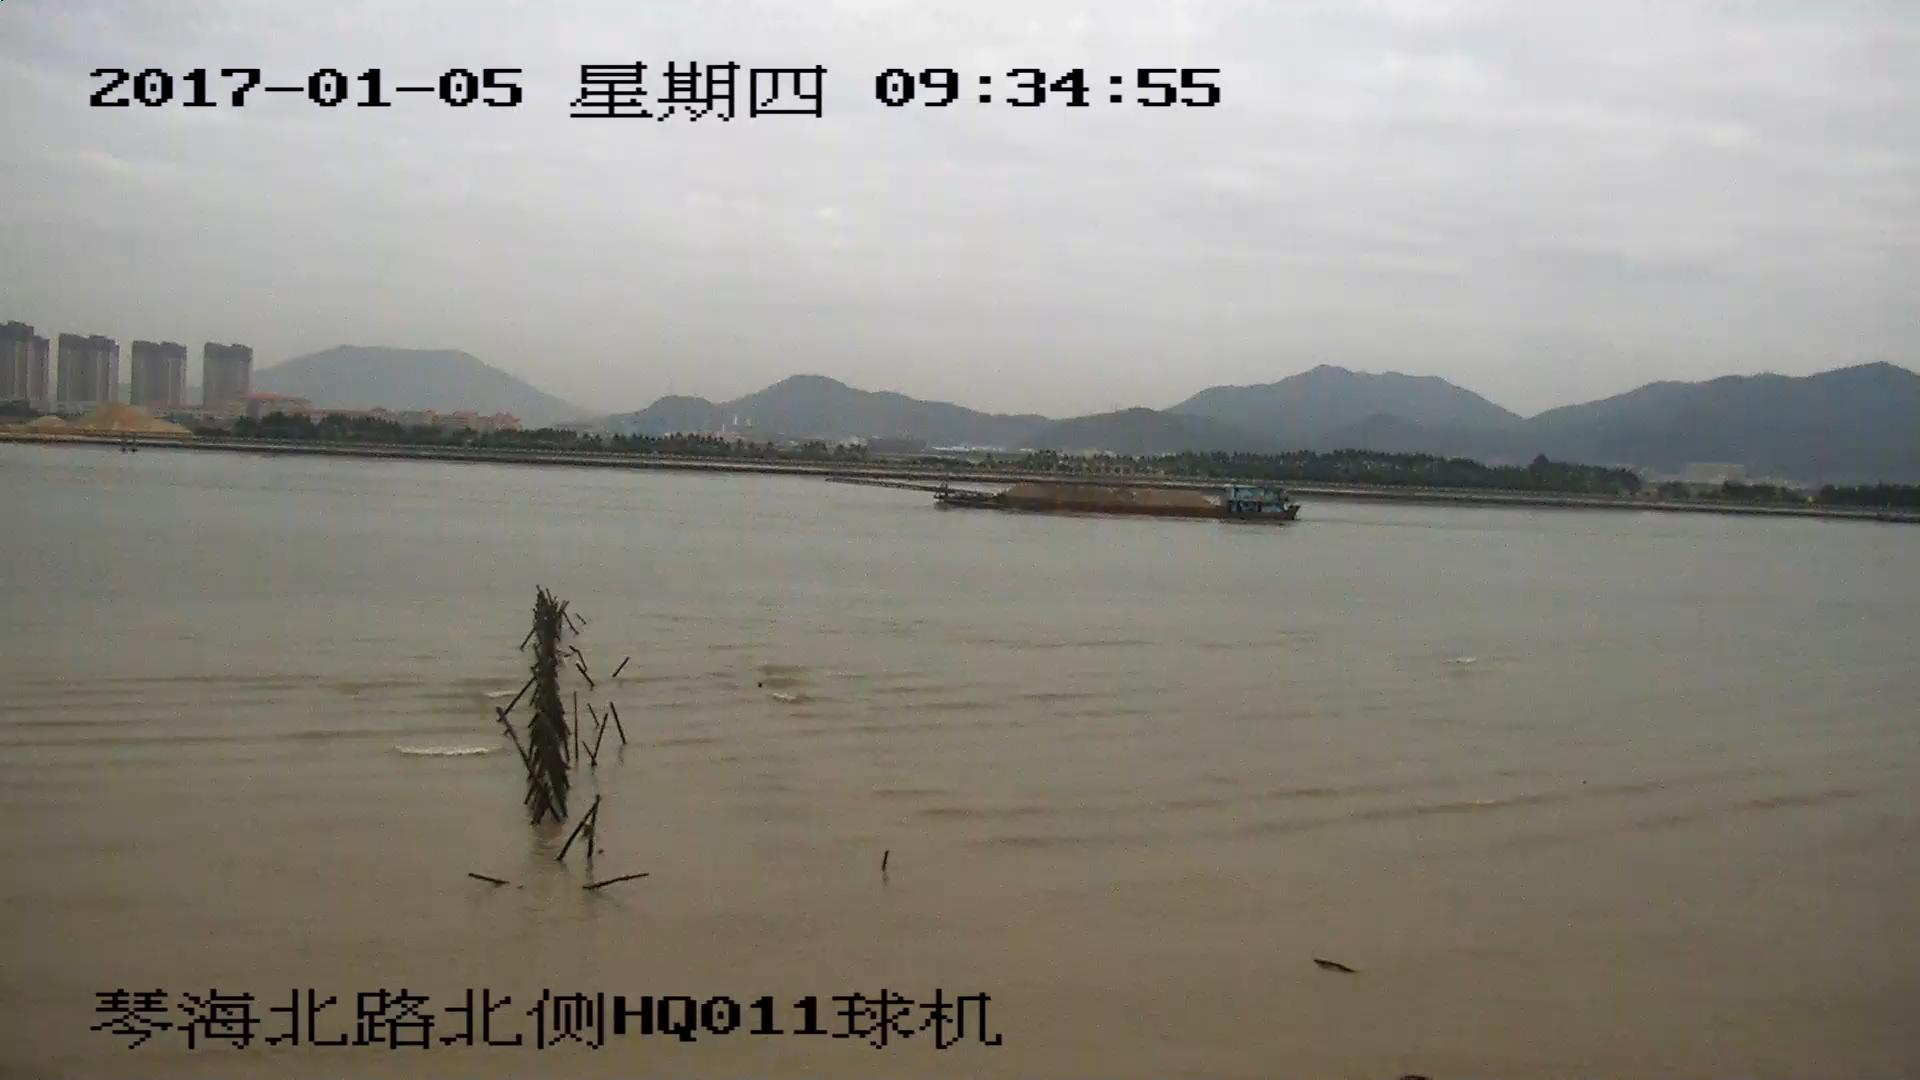ore carrier: (832, 472, 1288, 524)
